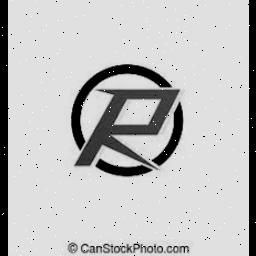r: (72, 86, 180, 168)
